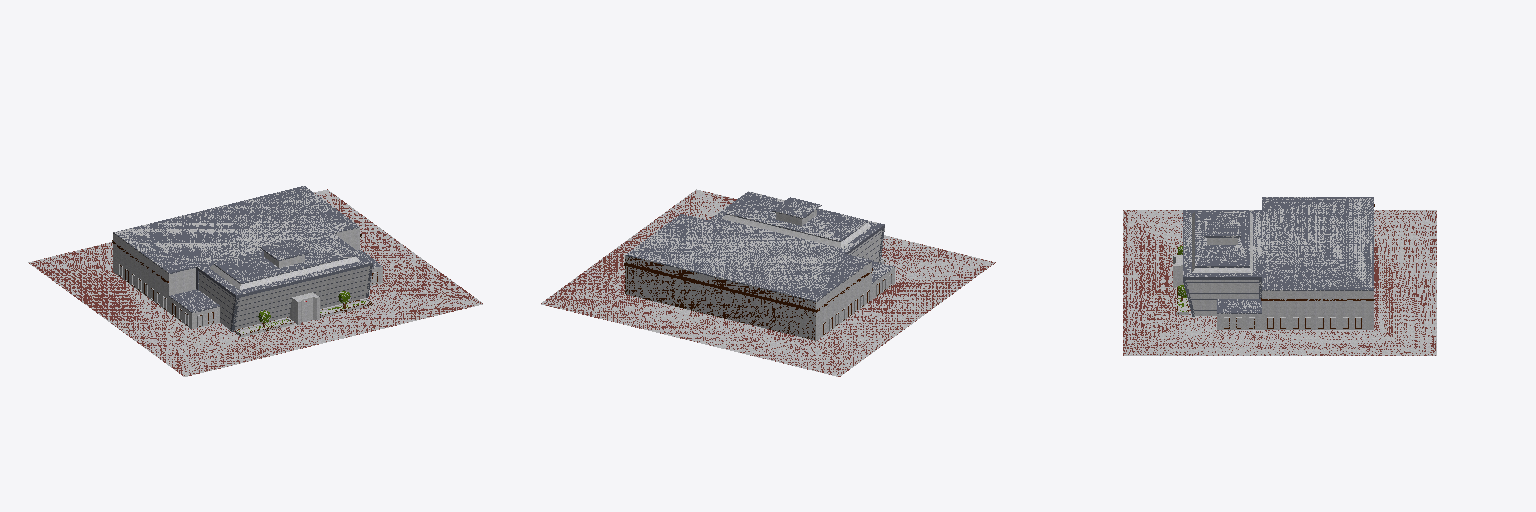
The picture shows the model from 3 angles: view 1: azimuth 30°, elevation 25°; view 2: azimuth 150°, elevation 25°; view 3: azimuth 270°, elevation 25°; orthographic projection.
Parts seen in each view (by area): view 1: Mesh1 Model; view 2: Mesh1 Model; view 3: Mesh1 Model.
Part boxes in pixels (left/top/right/bottom): Mesh1 Model: left=28, top=186, right=482, bottom=376; Mesh1 Model: left=541, top=189, right=995, bottom=376; Mesh1 Model: left=1123, top=197, right=1436, bottom=355.
Bounding box in the file's own units: 55.15 × 9.6 × 50.
Materials: 9 (3 with a texture image).